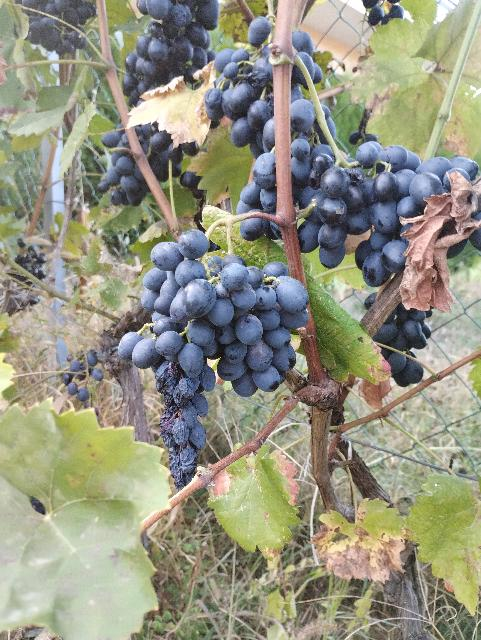grapes: (119, 229, 310, 489), (294, 140, 479, 288), (205, 46, 278, 214), (374, 304, 431, 386), (295, 31, 322, 84)
